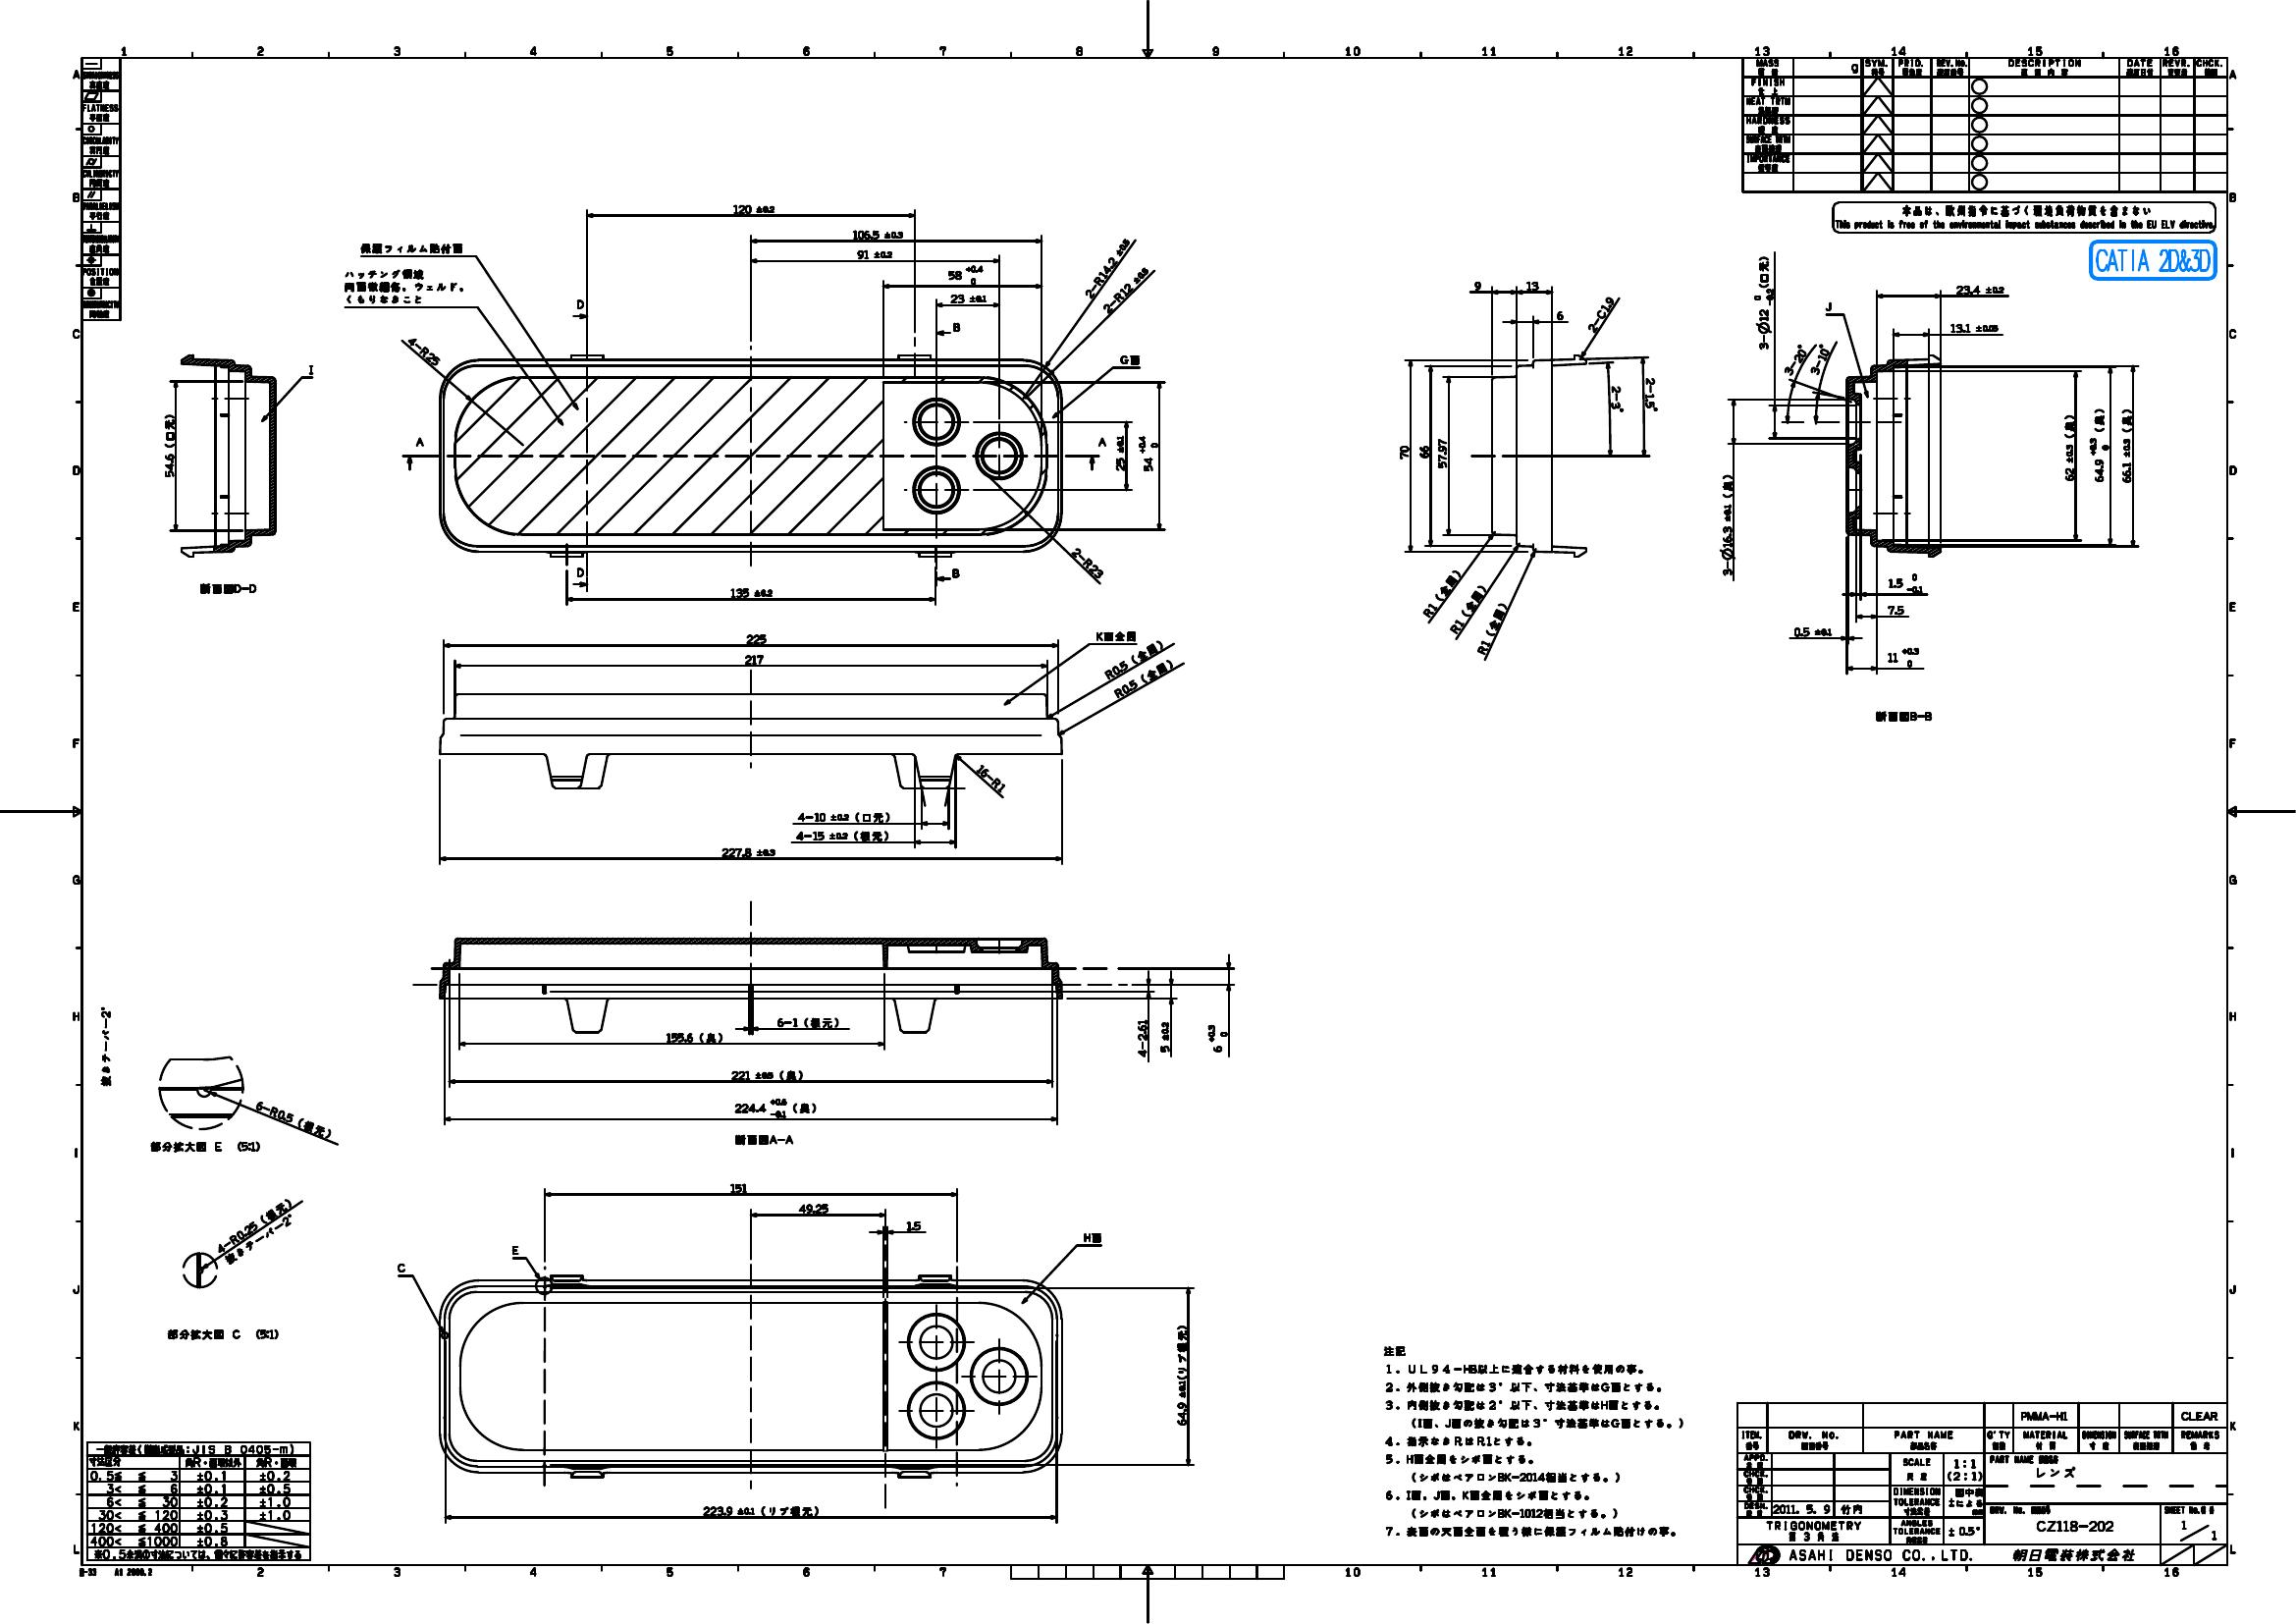anntotation_text: (1381, 1343, 1685, 1540), (1830, 199, 2217, 236), (2089, 239, 2217, 279), (341, 269, 469, 306), (163, 1325, 279, 1343), (357, 241, 464, 257), (149, 1141, 260, 1153), (216, 1232, 302, 1246), (98, 1004, 112, 1086), (1871, 707, 1932, 724), (199, 580, 256, 596), (731, 1132, 796, 1146), (1093, 627, 1137, 643), (1117, 352, 1142, 367), (1080, 1229, 1101, 1246), (1820, 299, 1838, 315), (395, 1260, 411, 1276), (508, 1243, 522, 1258), (573, 564, 587, 580), (949, 318, 963, 334), (304, 360, 316, 378), (573, 292, 583, 311), (950, 564, 961, 580), (413, 434, 423, 448), (1096, 434, 1107, 448)
dimension_text: (1750, 253, 1776, 352), (697, 1501, 822, 1520), (2085, 408, 2113, 485), (731, 1093, 817, 1118), (1172, 1322, 1191, 1431), (1718, 469, 1736, 576), (798, 807, 891, 824), (204, 1218, 300, 1234), (2117, 406, 2134, 485), (796, 828, 889, 842), (160, 411, 177, 482), (727, 1067, 805, 1083), (1107, 671, 1180, 687), (1098, 652, 1172, 668), (2061, 411, 2075, 487), (251, 1113, 337, 1125), (942, 264, 986, 286), (1135, 432, 1159, 473), (1440, 601, 1497, 619), (1950, 281, 2011, 297), (662, 1030, 724, 1046), (1462, 622, 1521, 638), (1072, 262, 1147, 274), (1881, 645, 1920, 668), (1093, 279, 1161, 292), (775, 1016, 841, 1028), (1887, 573, 1925, 594), (1643, 373, 1660, 417), (850, 225, 905, 239), (1412, 589, 1474, 601), (729, 200, 776, 216), (1788, 624, 1836, 640), (402, 341, 444, 359), (718, 845, 776, 858), (1205, 1019, 1226, 1053), (1579, 306, 1623, 322), (726, 585, 775, 599), (1066, 555, 1108, 571), (1946, 322, 1999, 334), (1156, 1018, 1173, 1055), (950, 290, 991, 306), (1801, 352, 1841, 367), (1110, 434, 1126, 473), (1774, 352, 1818, 364), (1135, 1016, 1147, 1060), (856, 246, 892, 260), (796, 1200, 833, 1214), (973, 773, 1014, 786), (1607, 383, 1625, 411), (1435, 438, 1449, 471), (741, 631, 769, 645), (1397, 439, 1412, 464), (1885, 601, 1906, 617), (1523, 278, 1542, 292), (903, 1218, 922, 1232), (727, 1179, 747, 1193), (741, 652, 762, 664), (1416, 441, 1430, 459), (1551, 306, 1565, 322), (1472, 279, 1484, 292)
object: (436, 352, 1065, 559), (436, 1274, 1065, 1480), (437, 661, 1065, 791), (436, 933, 1066, 1035), (177, 350, 281, 559), (1843, 352, 1943, 559), (1509, 353, 1590, 559), (155, 1084, 246, 1120), (190, 1251, 216, 1288)
title_block: (1734, 1401, 2229, 1566), (1739, 54, 2231, 195), (84, 1439, 313, 1562), (79, 54, 123, 322)
